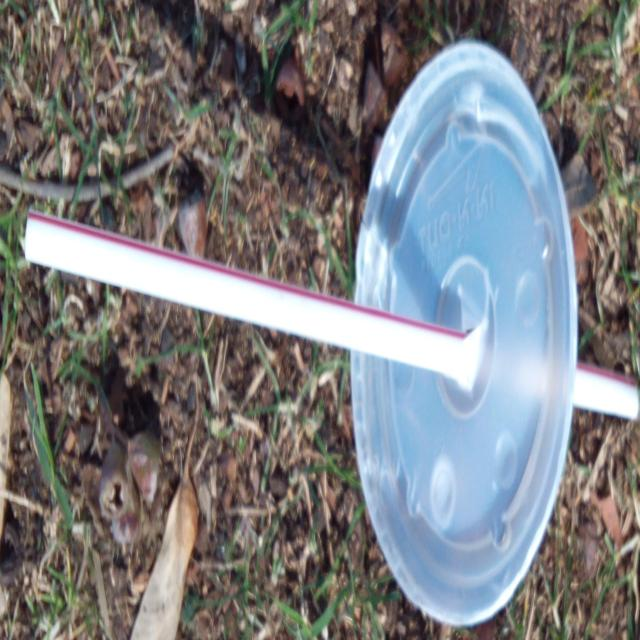litter: (353, 42, 581, 633), (27, 211, 639, 422)
